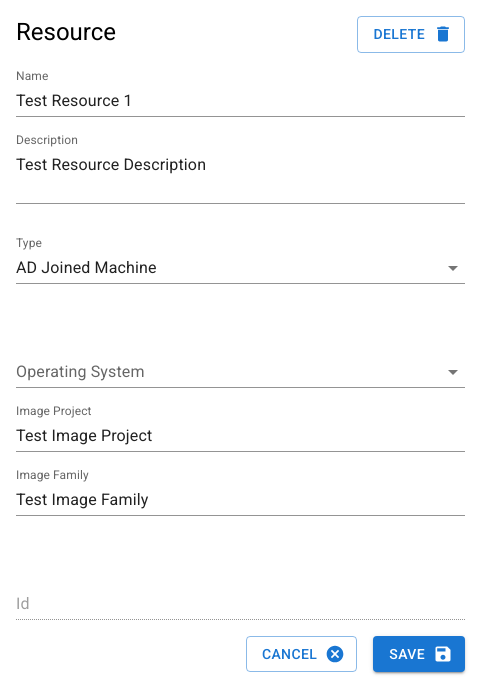
Test: Selecting an Operating System Alters State
The width and height of the screenshot is (488, 692).
Click the dropdown with id "operating-system": [240, 372] box [16,356,465,388]
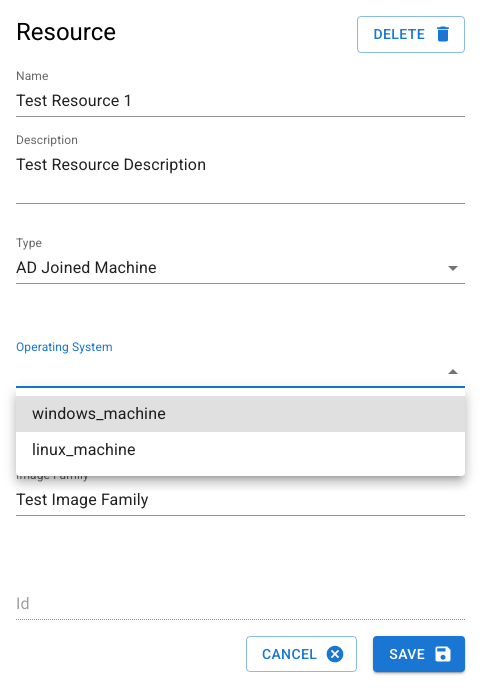
Click the option with test id "os-option": [99, 414] box [16,396,465,432]
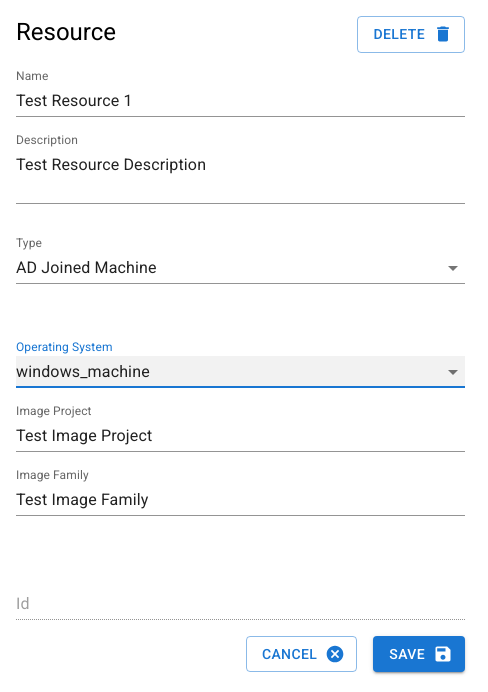
Result: the dropdown with id "operating-system" reads "windows_machine" at [16,356,465,388]
